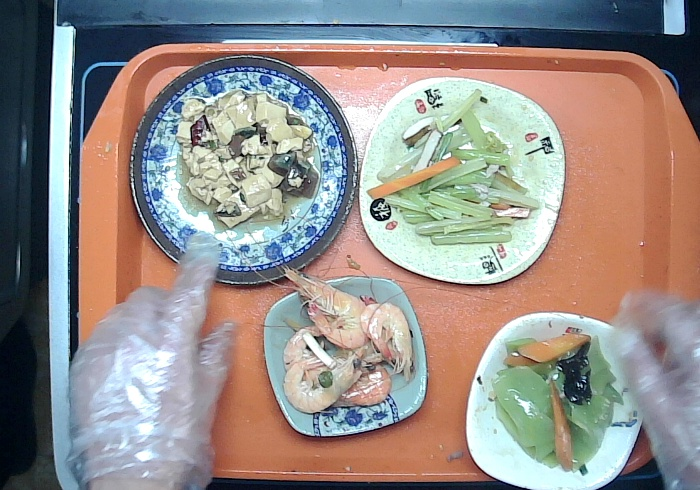NLDX-Bai_Se_Xiao_Fang_Die: (461, 308, 651, 490)
NLDX-Fu_Zi_Fang_Die: (354, 73, 569, 289)
NLDX-Qing_Hua_Xiao_Fang_Die: (261, 273, 430, 439)
NLDX-Qing_Hua_Yuan_Die: (123, 50, 363, 290)
